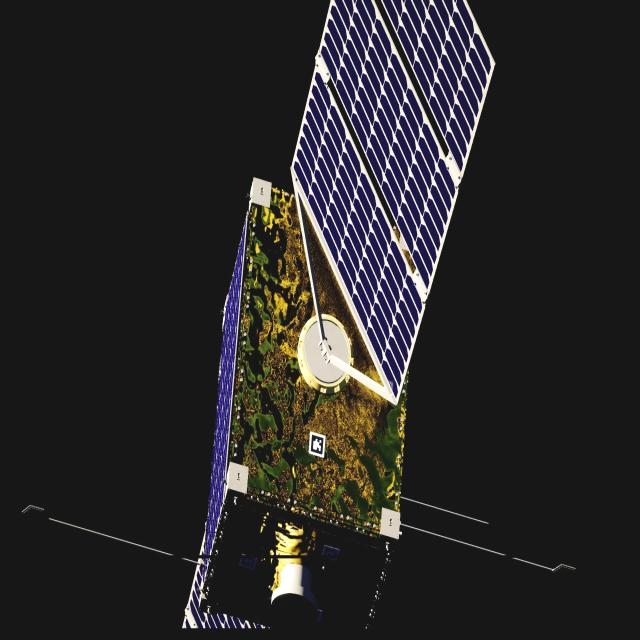medium_debris: (178, 0, 494, 640)
